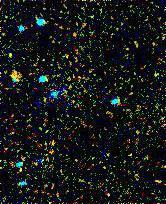star: (0, 60, 30, 90)
